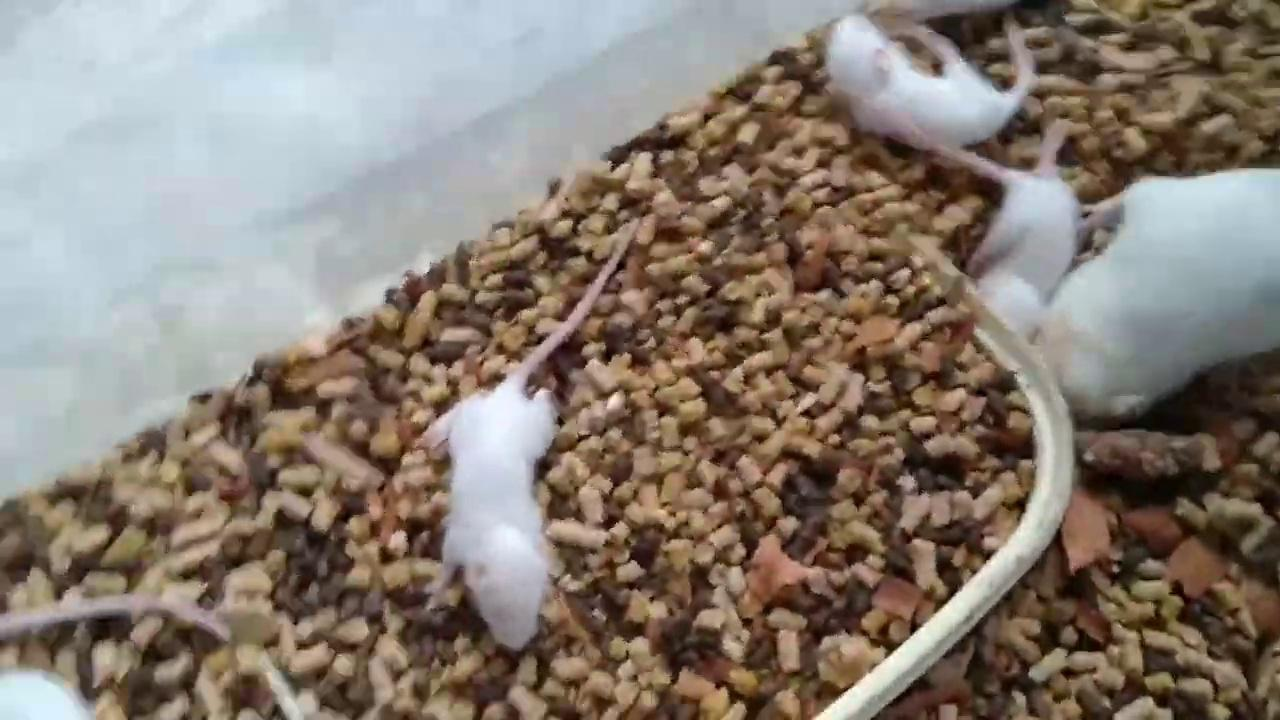rat: (426, 216, 640, 648)
